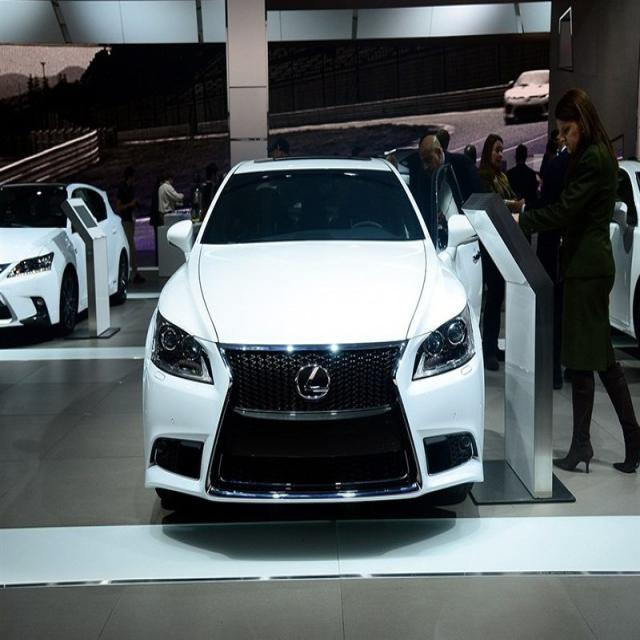front_bumper: (139, 356, 487, 506)
front_glass: (200, 167, 427, 251)
front_left_side_door: (431, 160, 484, 332)
front_left_side_light: (411, 299, 476, 385)
front_left_side_mirror: (445, 210, 480, 265)
front_right_side_light: (149, 306, 215, 387)
front_right_side_mirror: (166, 218, 194, 261)
